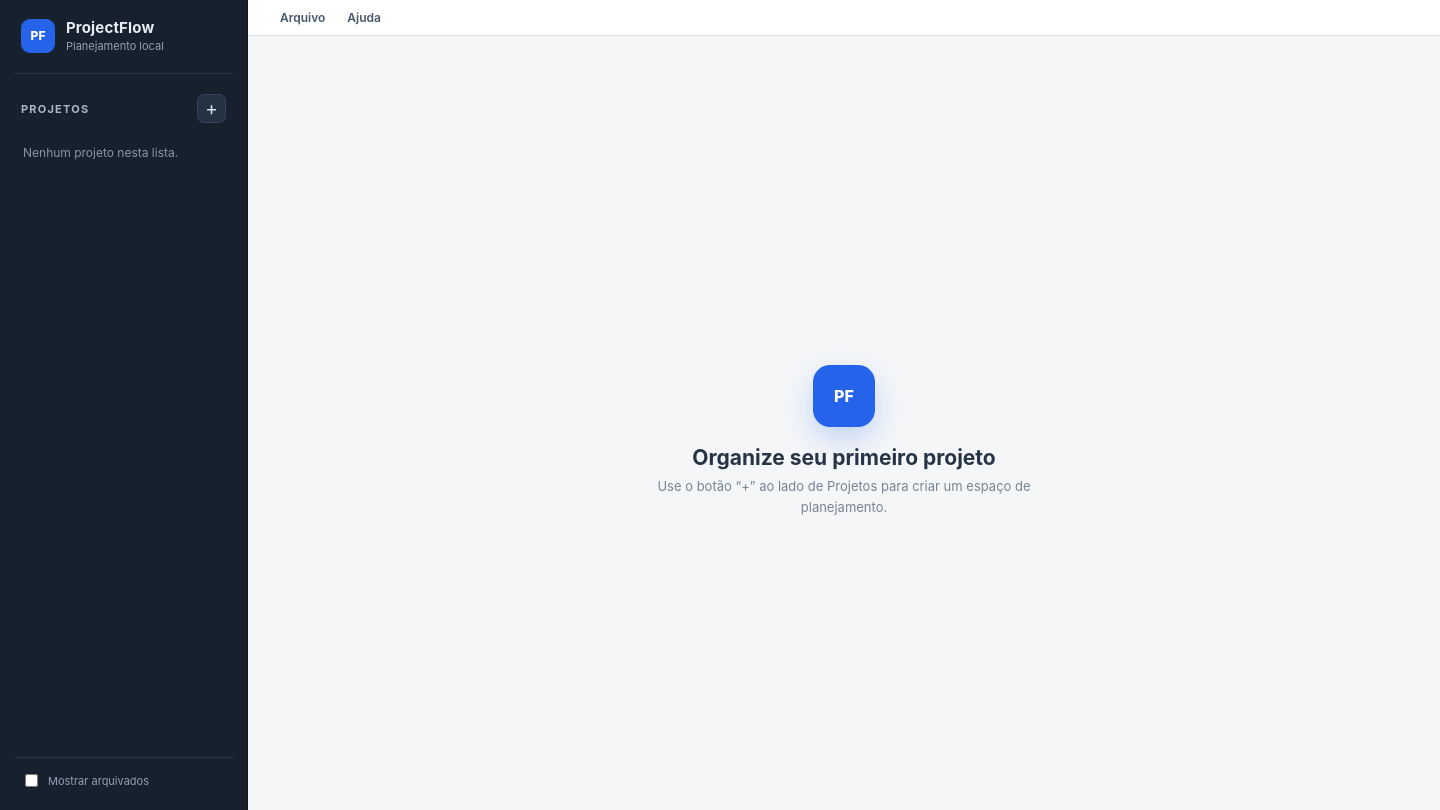
aplicação ProjectFlow › cria backup manual e informa onde ele foi salvo
The image size is (1440, 810).
Expected: the heading "Organize seu primeiro projeto" is shown, x1=692 y1=445 x2=996 y2=470
Step 1. Click the heading "Arquivo" → (303, 18), box x1=280 y1=10 x2=325 y2=25
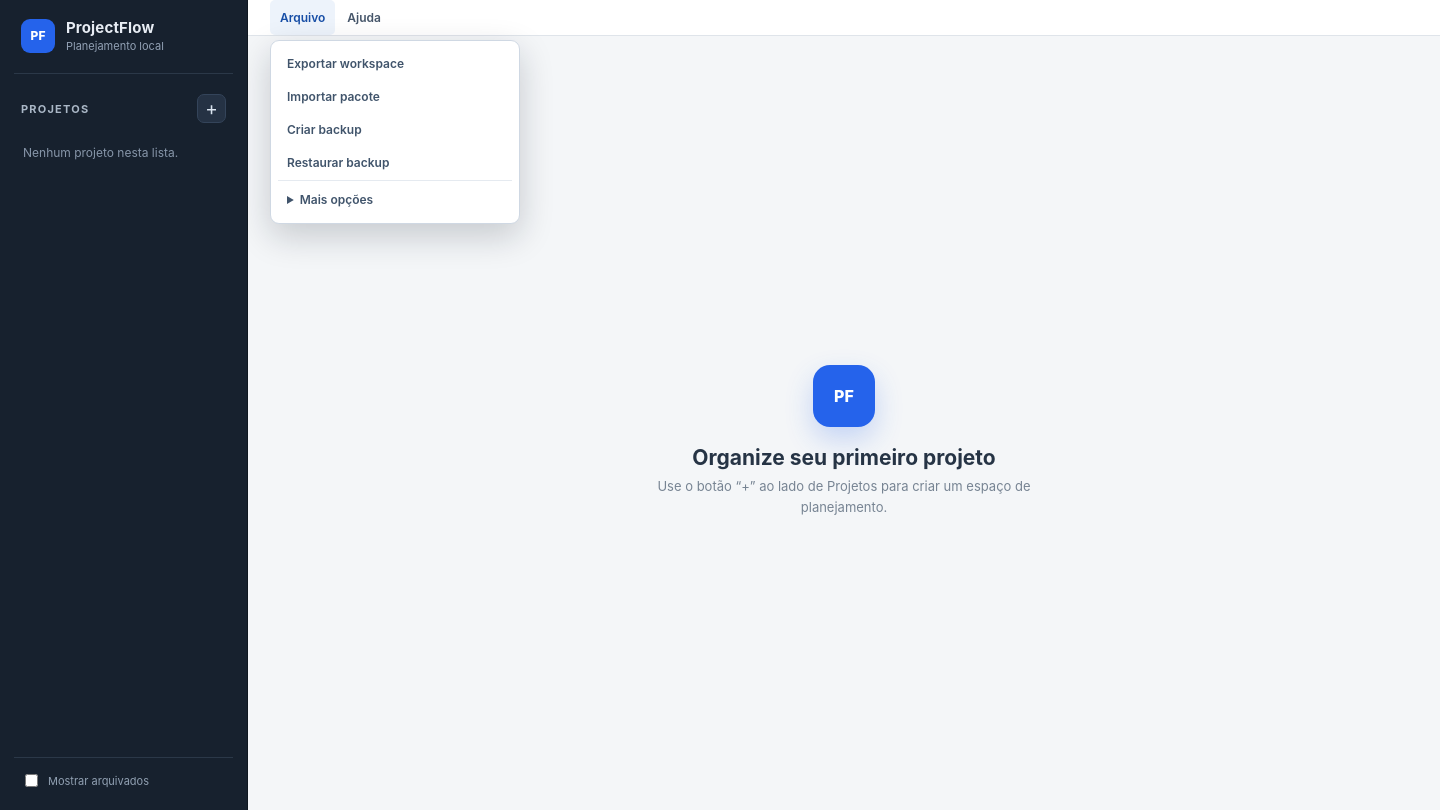
Step 2. Click the button "Criar backup" → (395, 130), box x1=278 y1=114 x2=512 y2=145
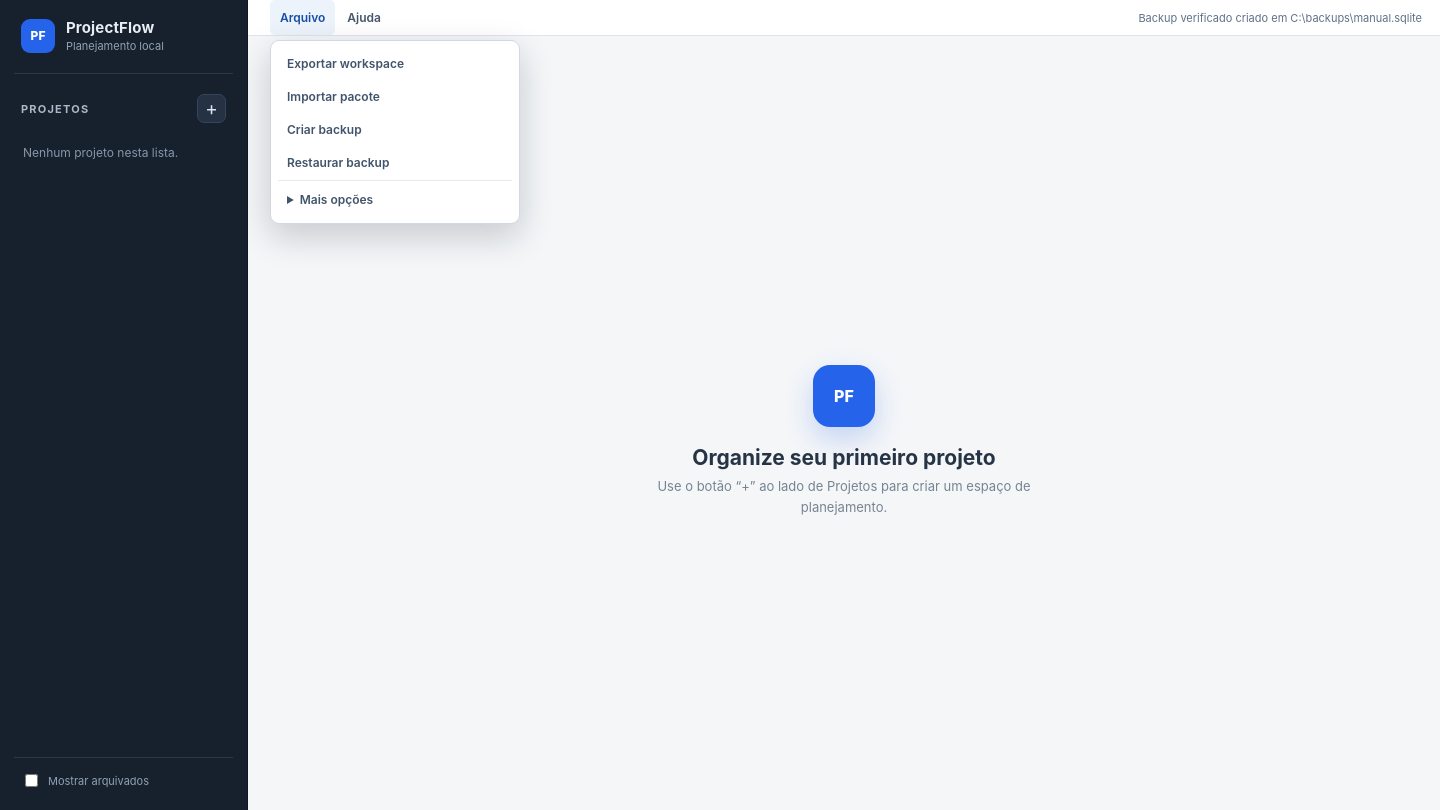
Result: the text "Backup verificado criado em C:\\backups\\manual.sqlite" is shown at x1=1138 y1=10 x2=1422 y2=24
